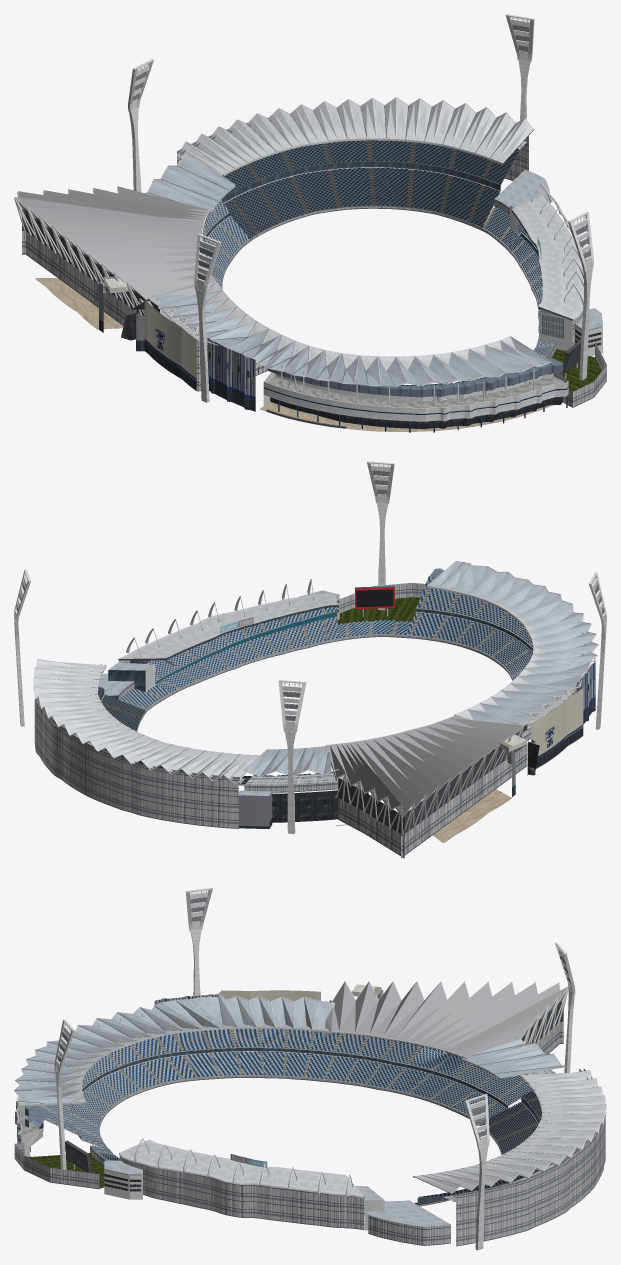
File: gmhba.glb
The picture shows the model from 3 angles, top to bottom: view 1: azimuth 30°, elevation 25°; view 2: azimuth 150°, elevation 25°; view 3: azimuth 270°, elevation 25°; orthographic projection. The views are drawn at different scales.
Parts seen in each view (by area): view 1: gmhba, jss_roof; view 2: gmhba, jss_roof; view 3: gmhba, jss_roof.
Part boxes in pixels (left/top/right/bottom): gmhba: left=35, top=14, right=606, bottom=432; jss_roof: left=14, top=186, right=216, bottom=325; gmhba: left=14, top=461, right=606, bottom=842; jss_roof: left=325, top=715, right=527, bottom=858; gmhba: left=14, top=887, right=606, bottom=1250; jss_roof: left=323, top=981, right=568, bottom=1058.
Bounding box in the file's own units: 236 × 74.7 × 269.
Materials: 38 (38 with a texture image).
